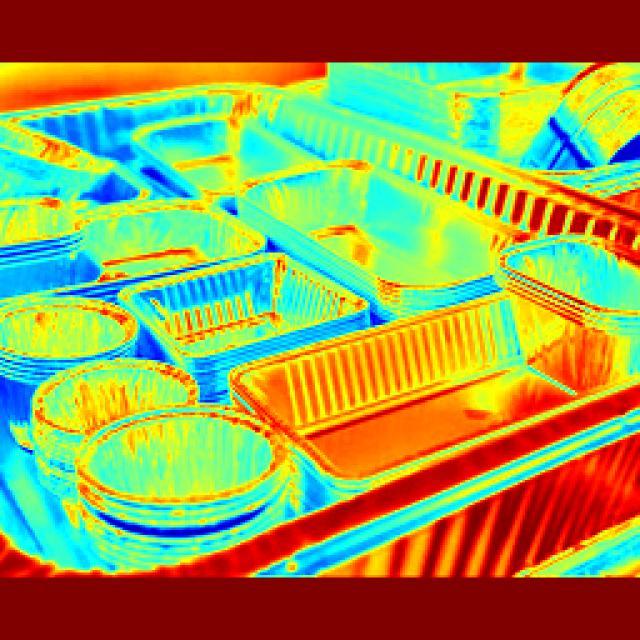Aluminium Food Cans: (232, 158, 514, 328), (242, 340, 592, 466), (65, 409, 273, 552), (134, 251, 346, 381), (500, 228, 640, 350), (74, 202, 226, 282), (42, 359, 198, 432), (11, 292, 132, 369)
